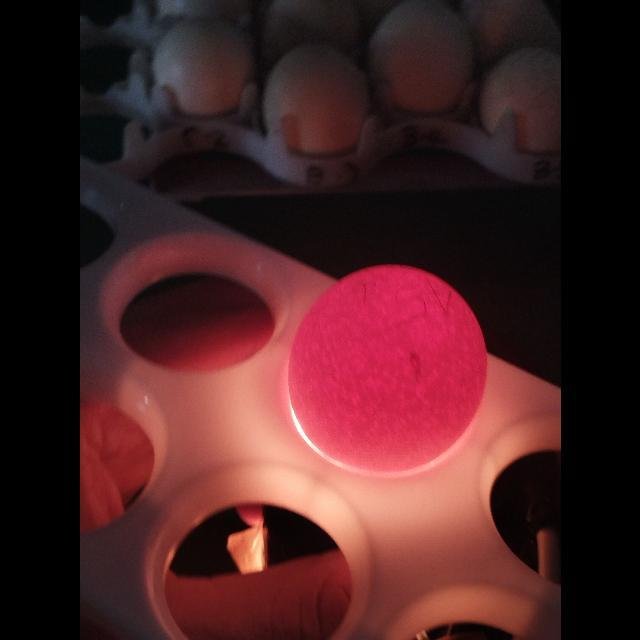Infertile: (281, 258, 491, 478)
